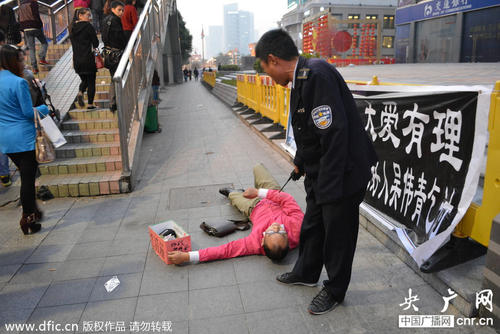fall: (140, 158, 319, 277)
